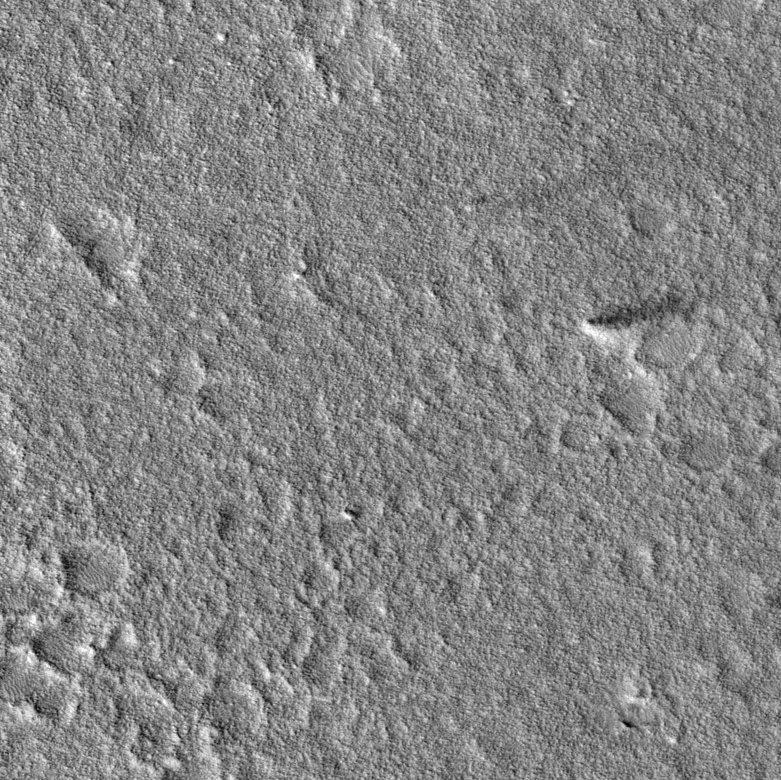dust_devil: (577, 282, 704, 348), (461, 167, 603, 216)
